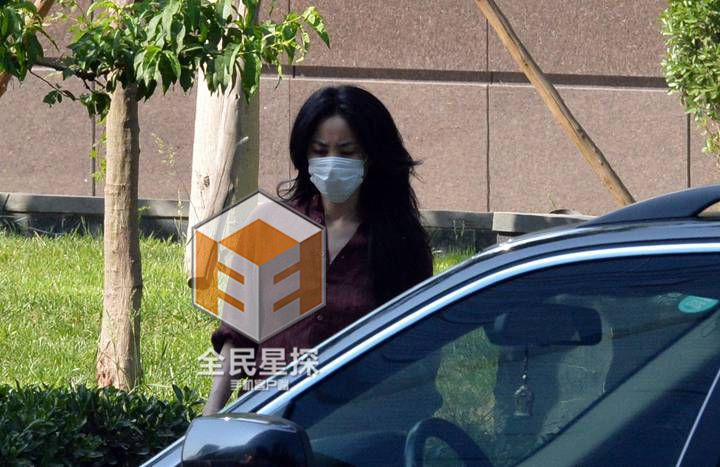face_mask: (307, 116, 371, 199)
